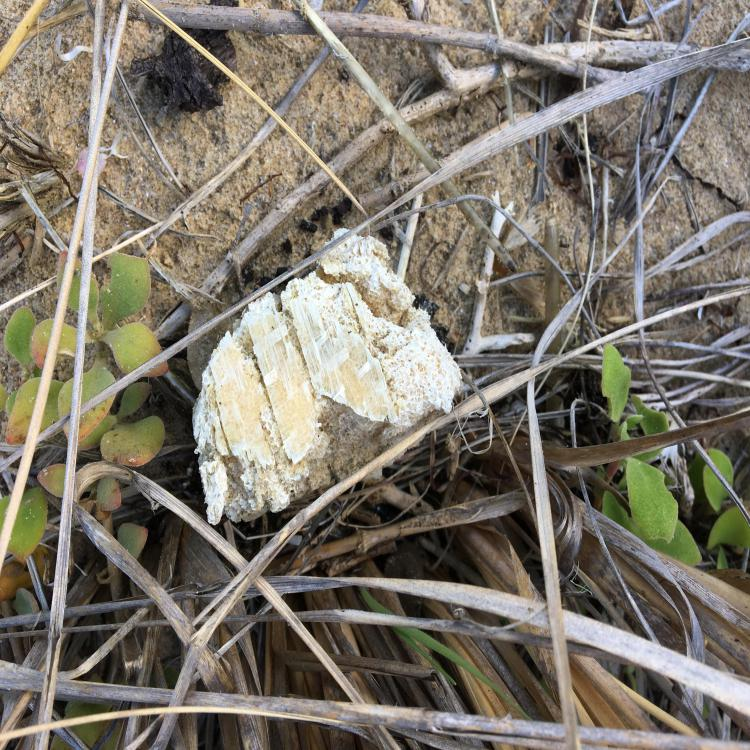Styrofoam piece: (193, 234, 463, 525)
